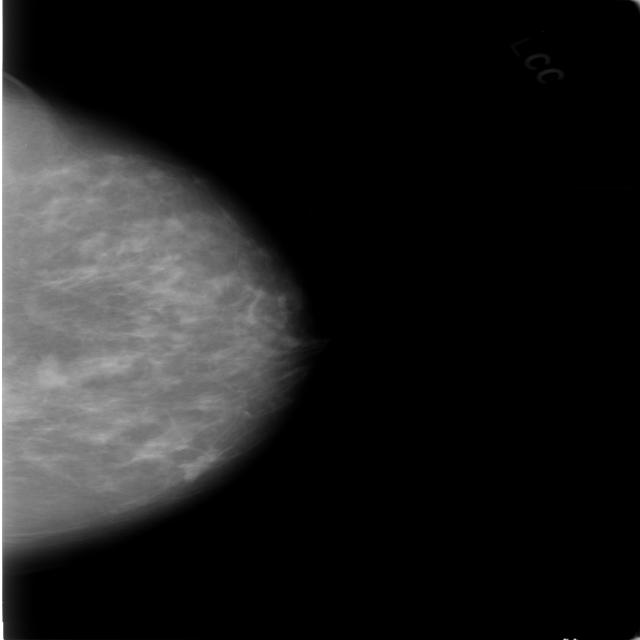normal: (0, 49, 324, 565)
